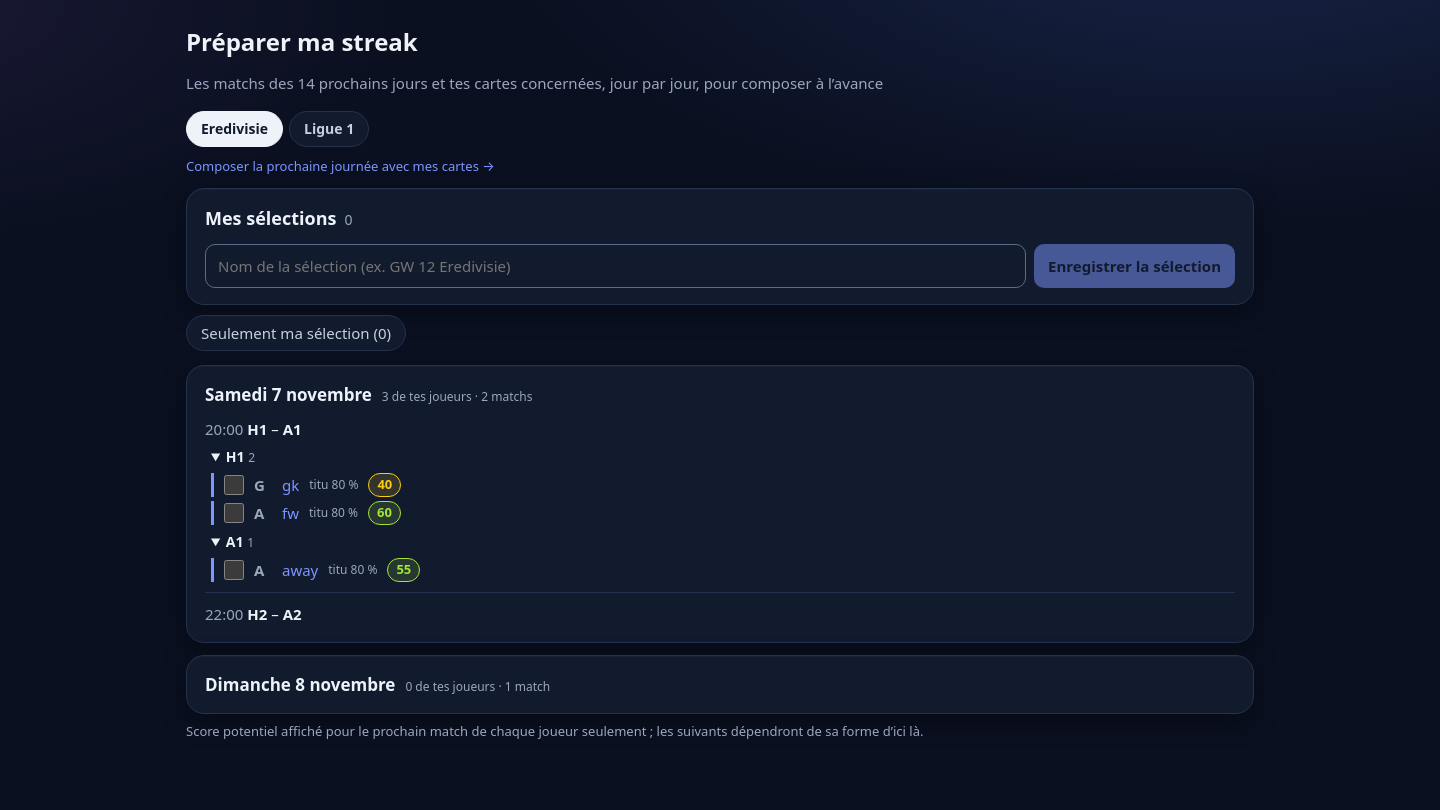
Test: /streak › matchs par jour (heure de Paris), joueurs par club puis poste, sélection avec total potentiel
Later steps or results of the test are not shown.
Expected: the links read "gk", "fw", in this order, [282,474,299,496]; [282,502,299,524]
Click the checkbox named "Sélectionner fw" at (234, 513), box [224,503,244,523]
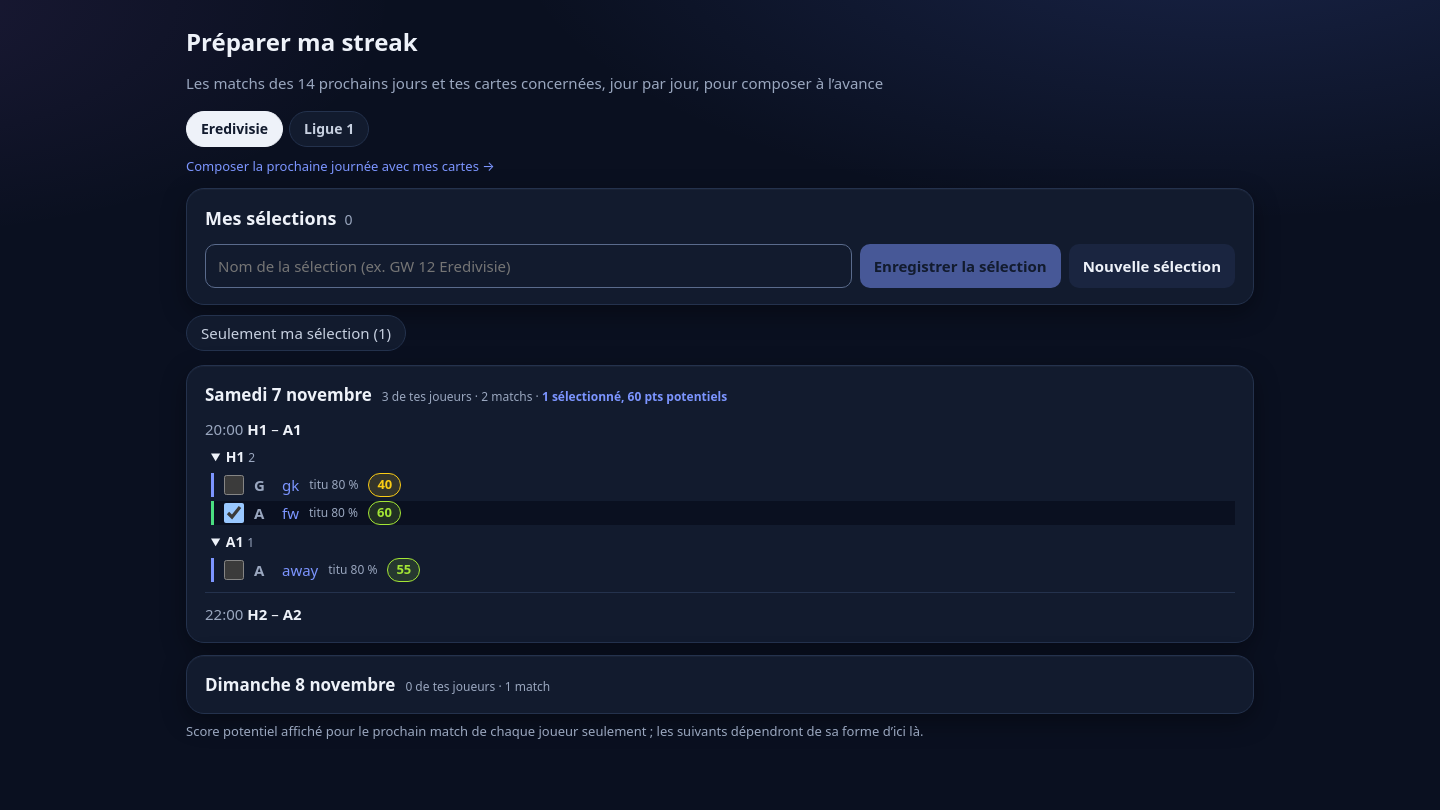
Click the checkbox named "Sélectionner away" at (234, 570), box [224,560,244,580]
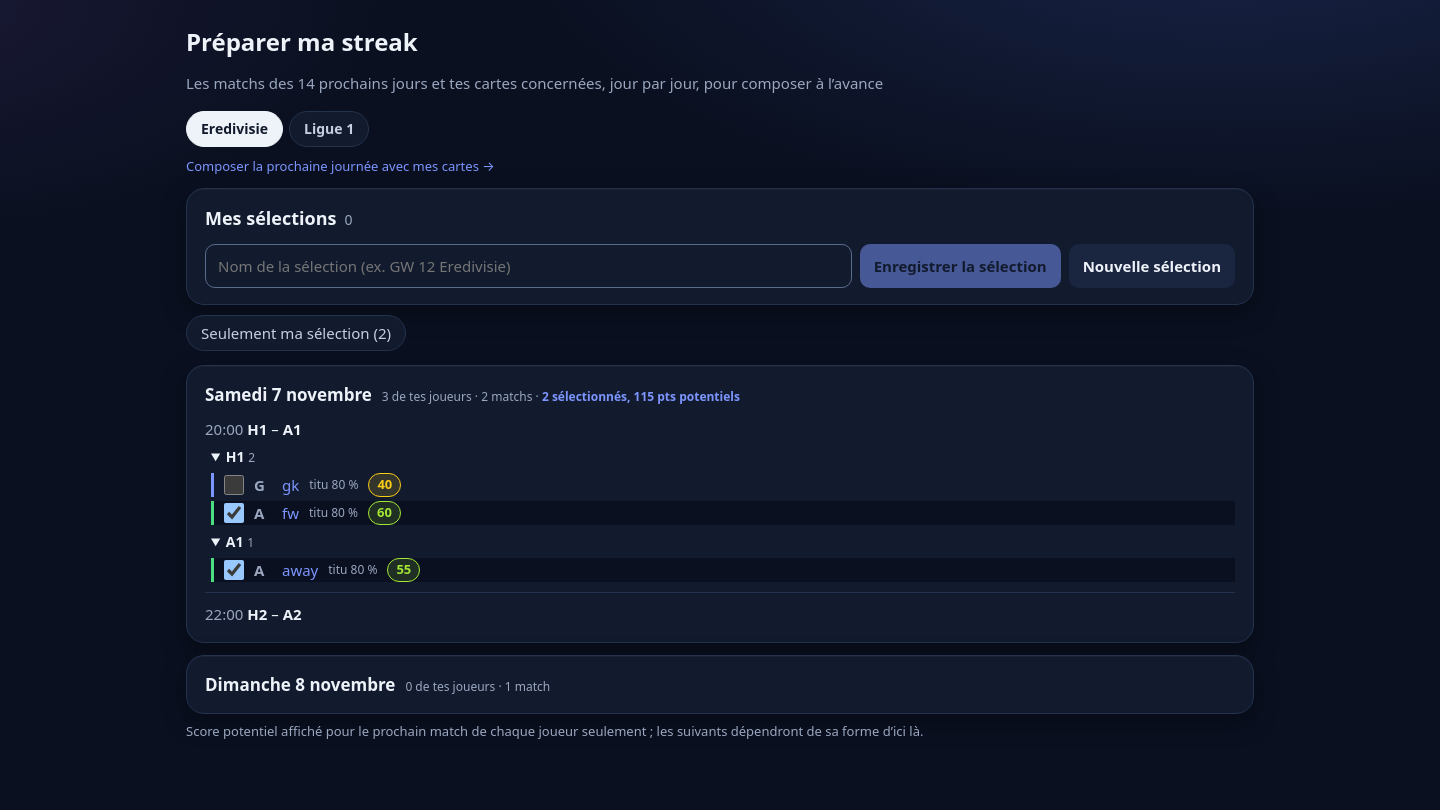
Click the button "Seulement ma sélection (2)" at (296, 333), box [186,315,406,351]
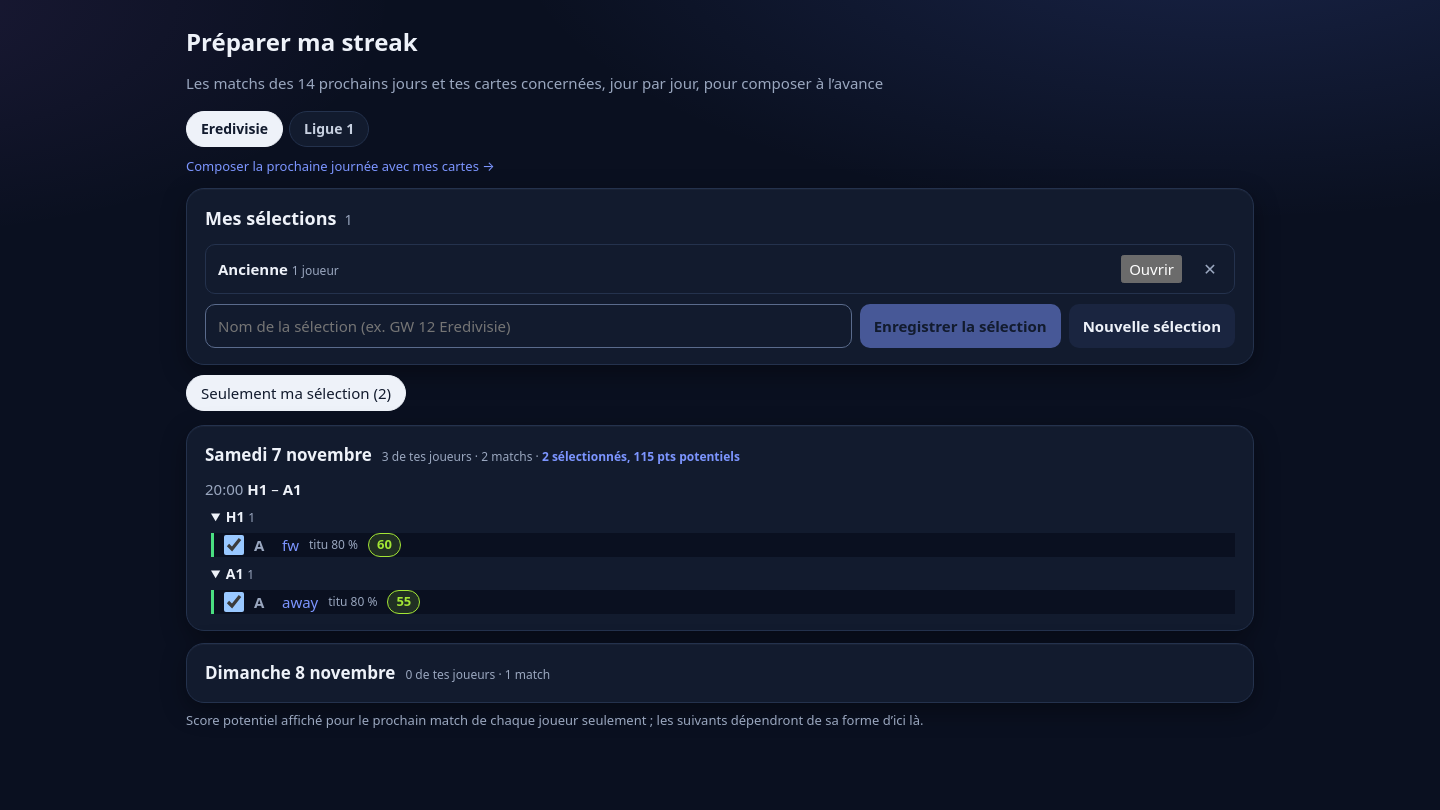
Expected: the list named "Tes joueurs, H1" shows "fw", [282,534,299,556]
Expected: the button with aria-label "Ouvrir Ancienne" is shown, [1121,255,1182,283]
Type "GW 12" into the field labelled "Nom de la sélection" at (528, 326), box [205,304,852,348]
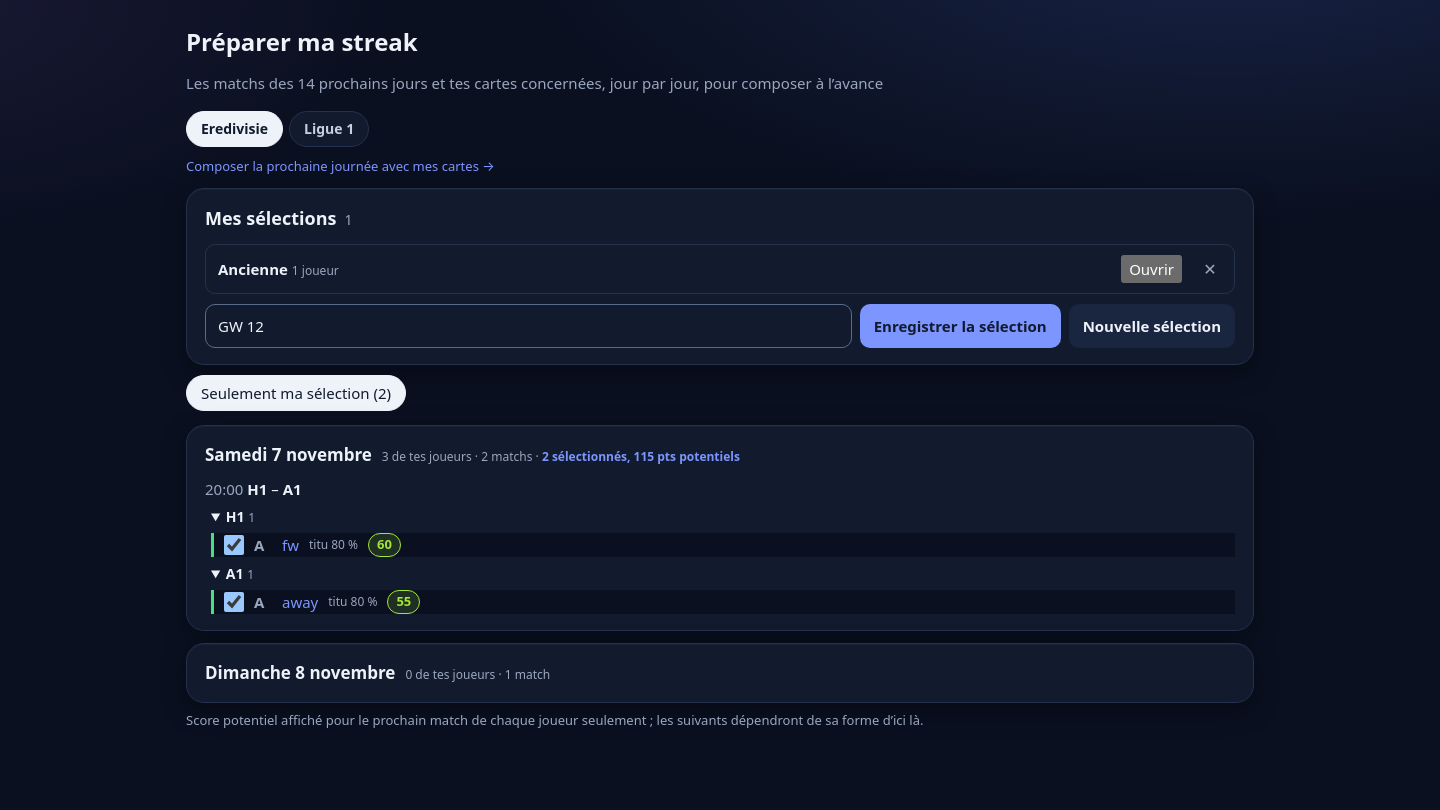
Click the button "Enregistrer la sélection" at (960, 326), box [860,304,1061,348]
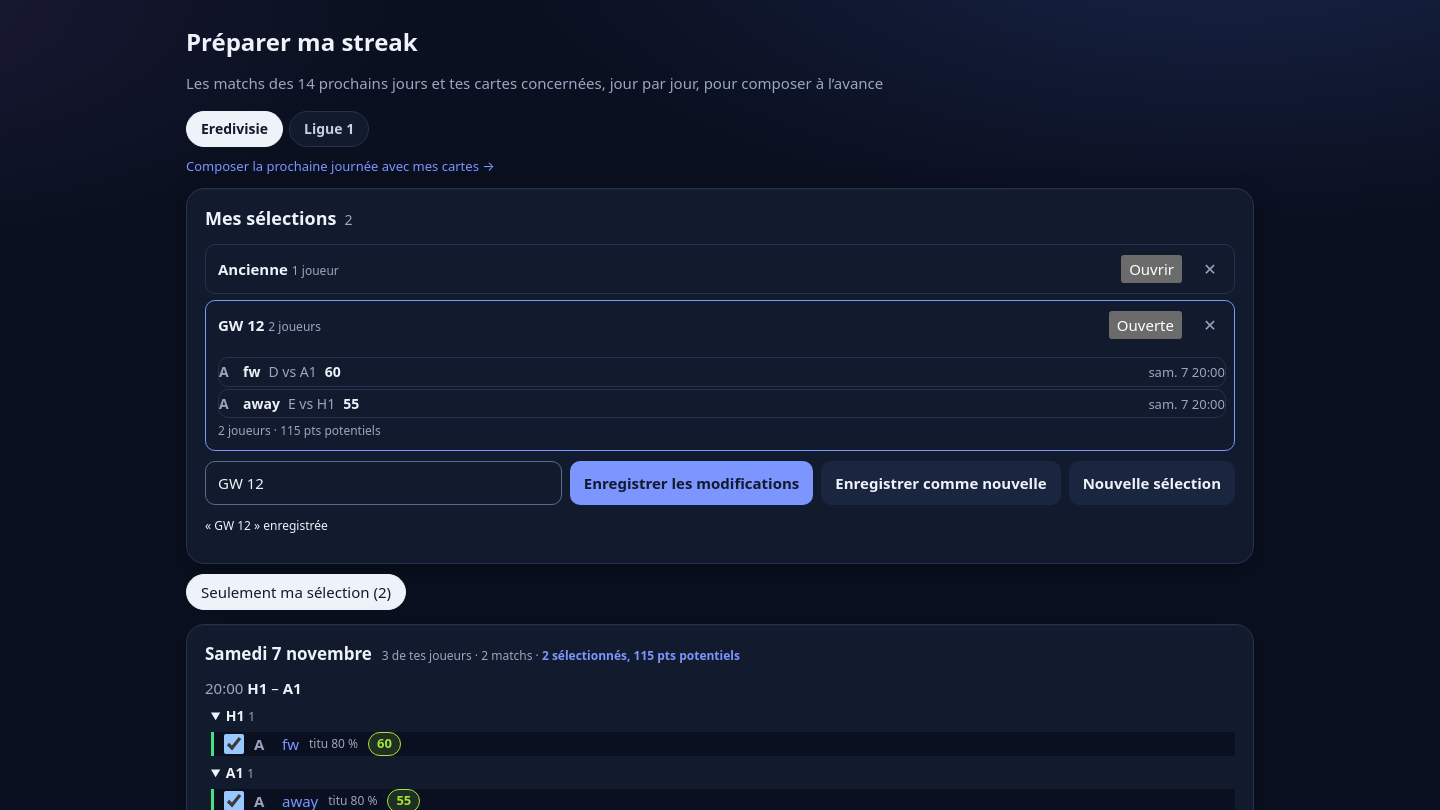
Click the button with aria-label "Ouvrir Ancienne" at (1152, 269), box [1121,255,1182,283]
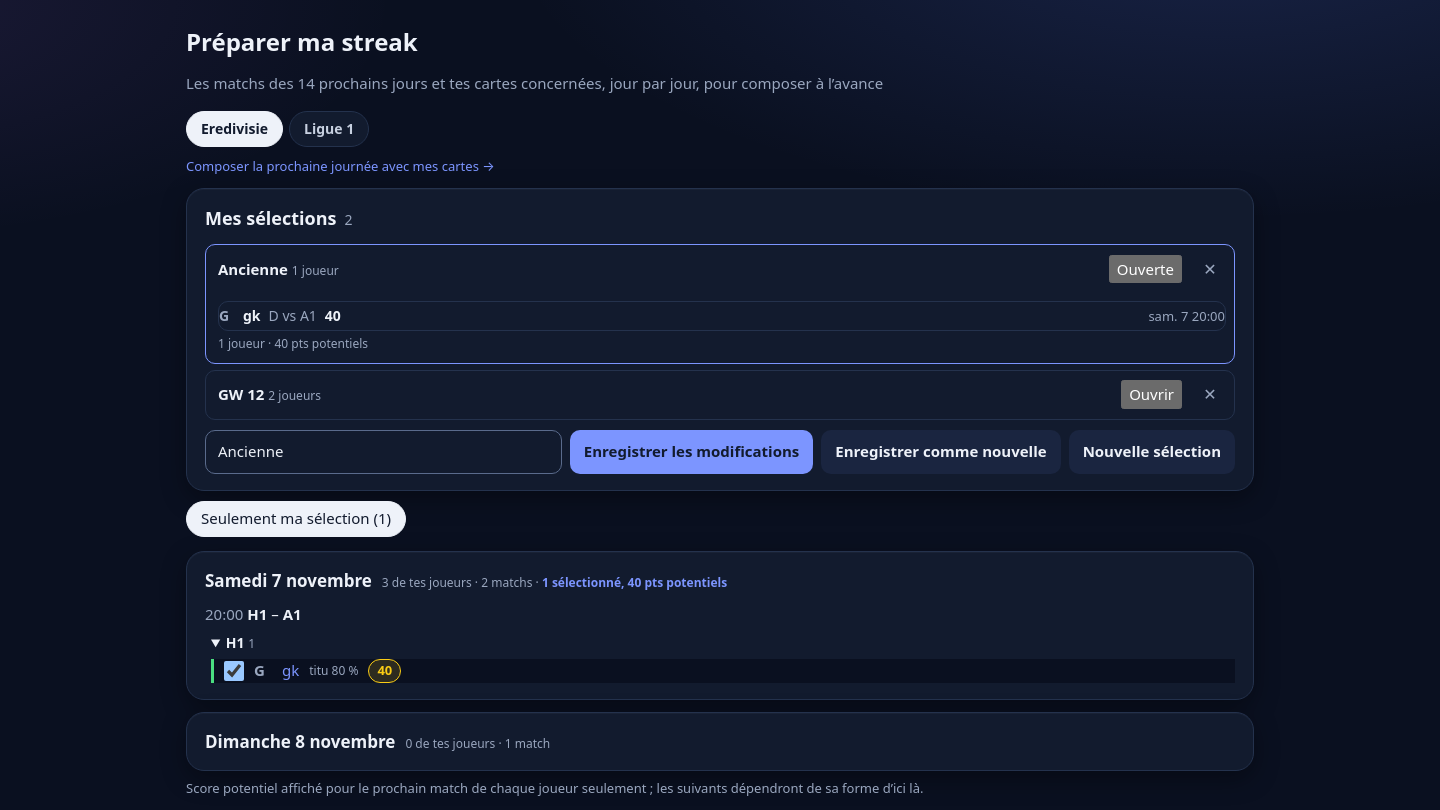
Expected: the button "Seulement ma sélection (1)" is shown, [186,500,406,536]
Expected: the list named "Joueurs de la sélection" reads "G gk D vs A1 40 sam. 7 20:00", [218,301,1226,330]
